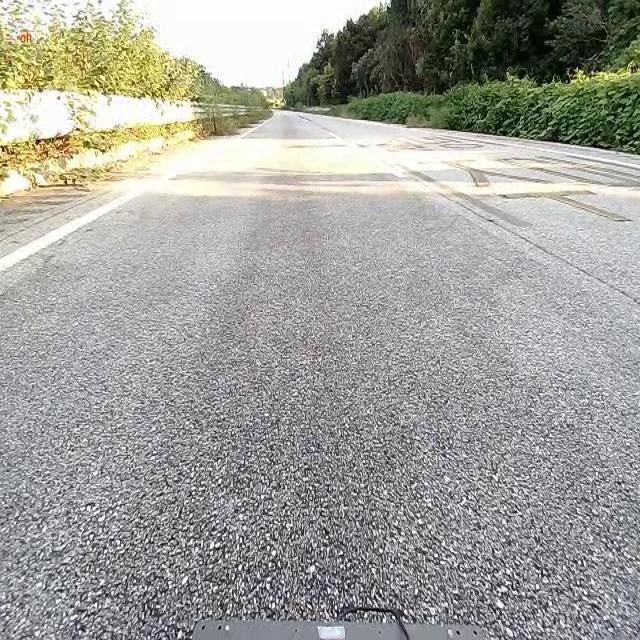Lane: (2, 159, 178, 276), (0, 175, 171, 273)
